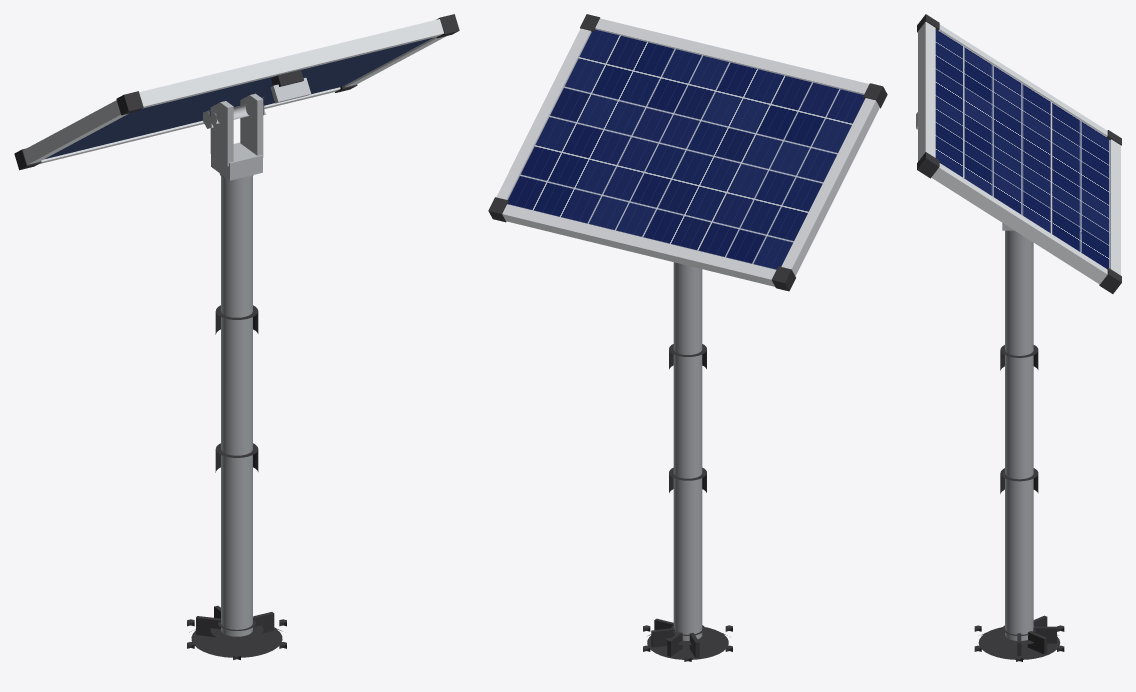
The model's file is panel_solar.glb.
The picture shows the model from 3 angles, left to right: view 1: azimuth 30°, elevation 25°; view 2: azimuth 150°, elevation 25°; view 3: azimuth 270°, elevation 25°; orthographic projection. The views are drawn at different scales.
Visible parts, largest first — view 1: SolarPanel_pole, SolarPanel_frame, SolarPanel_backsheet, SolarPanel_caps, SolarPanel_bracket; view 2: SolarPanel_cells, SolarPanel_frame, SolarPanel_pole, SolarPanel_caps; view 3: SolarPanel_cells, SolarPanel_pole, SolarPanel_frame, SolarPanel_caps.
Boxes of the visible parts, <box> form: SolarPanel_pole: <box>219,173,253,636</box>; SolarPanel_frame: <box>23,19,446,164</box>; SolarPanel_backsheet: <box>44,38,432,159</box>; SolarPanel_caps: <box>14,14,459,659</box>; SolarPanel_bracket: <box>203,77,311,180</box>; SolarPanel_cells: <box>507,29,864,269</box>; SolarPanel_frame: <box>496,18,879,286</box>; SolarPanel_pole: <box>673,262,702,640</box>; SolarPanel_caps: <box>488,14,887,661</box>; SolarPanel_cells: <box>935,30,1110,268</box>; SolarPanel_pole: <box>1005,230,1033,640</box>; SolarPanel_frame: <box>918,22,1120,284</box>; SolarPanel_caps: <box>917,14,1121,661</box>.
Size of the model in its own units: 1 by 1.84 by 0.6057.
6 materials, 1 textured.
